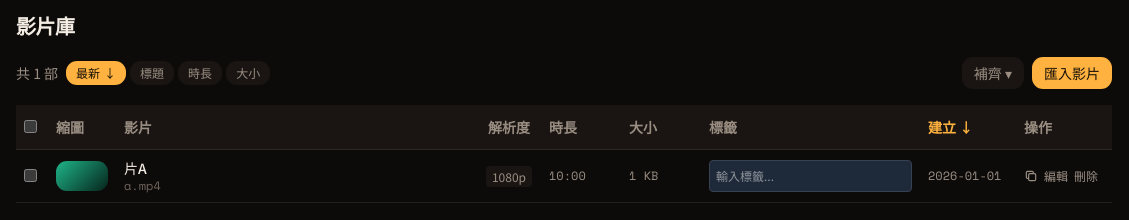
it: VideoManagePage (library) › copies the file path without the Clipboard API
Click the button named "複製路徑".
click(1031, 176)  # box [1024,169,1038,183]
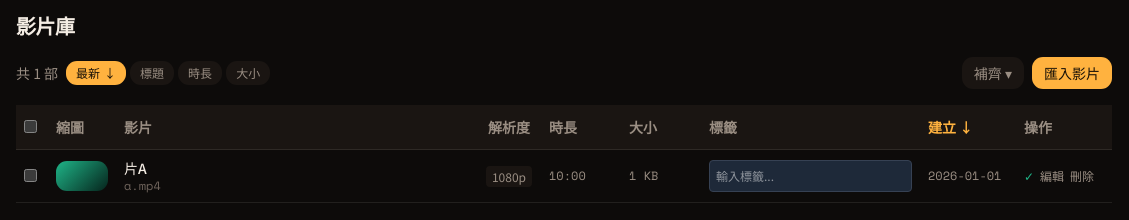
Result: the text "✓" is shown at [1024,167,1034,184]
